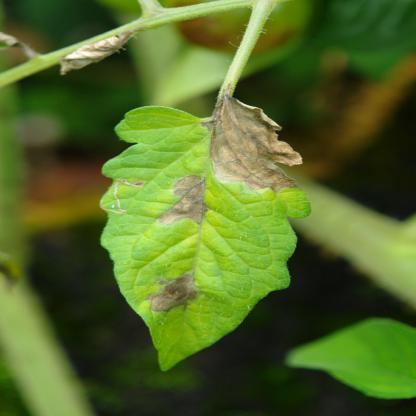tomato leaf late blight: (92, 96, 316, 378)
